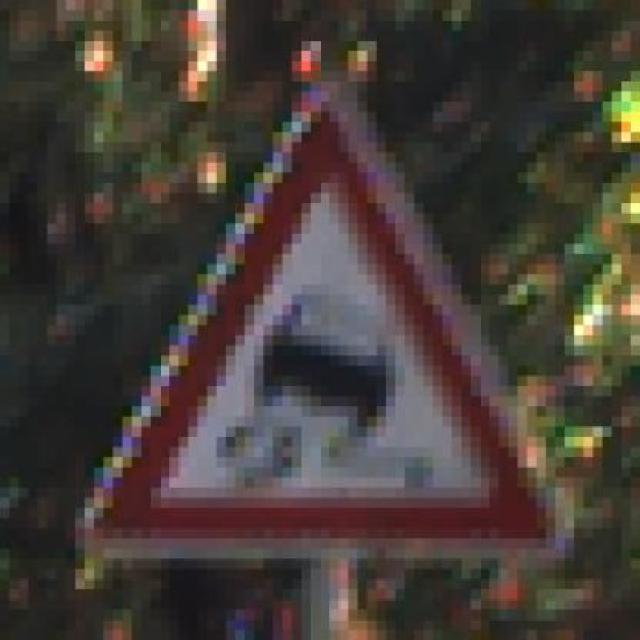Slippery Road Ahead: (66, 71, 574, 558)
